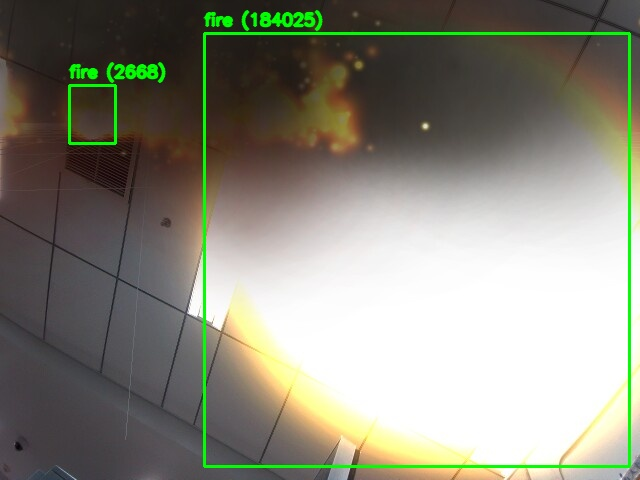fire: (204, 33, 629, 466), (69, 85, 115, 143)
